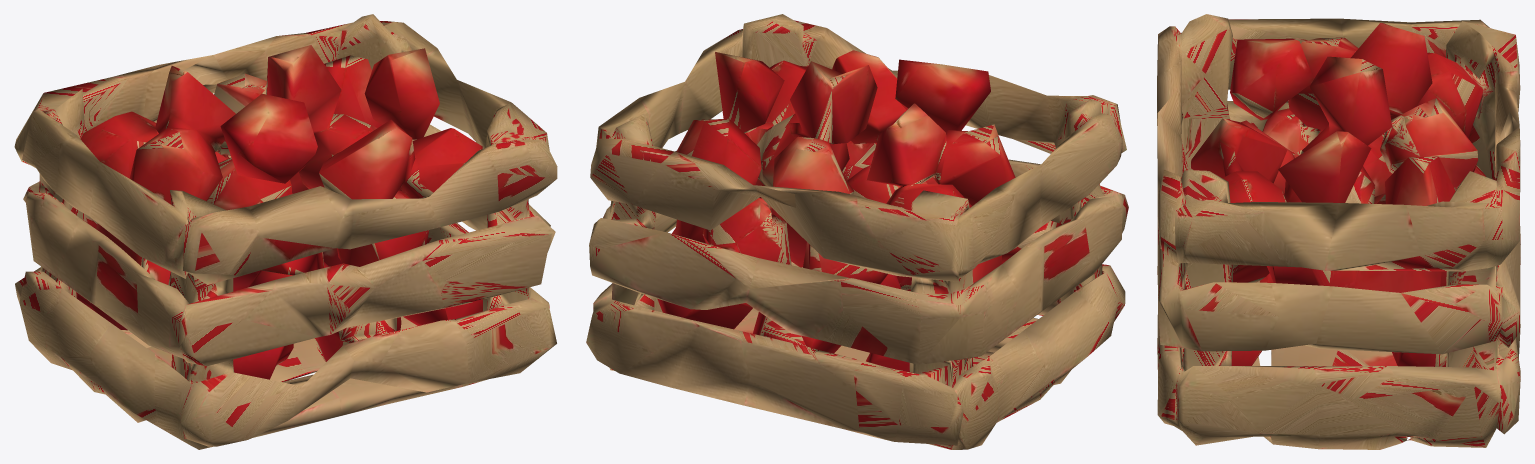
Rendered from fruit-crate.glb.
The picture shows the model from 3 angles, left to right: view 1: azimuth 30°, elevation 25°; view 2: azimuth 150°, elevation 25°; view 3: azimuth 270°, elevation 25°; orthographic projection. The views are drawn at different scales.
Bounding box in the file's own units: 1.88 × 1.42 × 1.51.
1 material, 1 textured.
